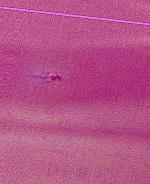knot: (46, 69, 71, 88)
